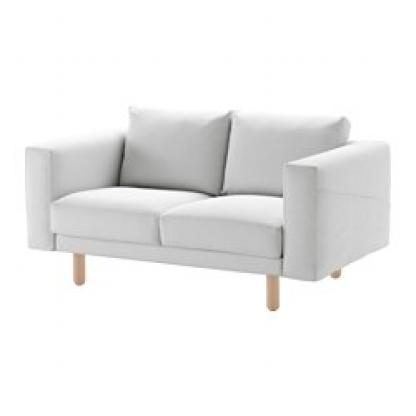Sofa: (17, 78, 394, 318)
